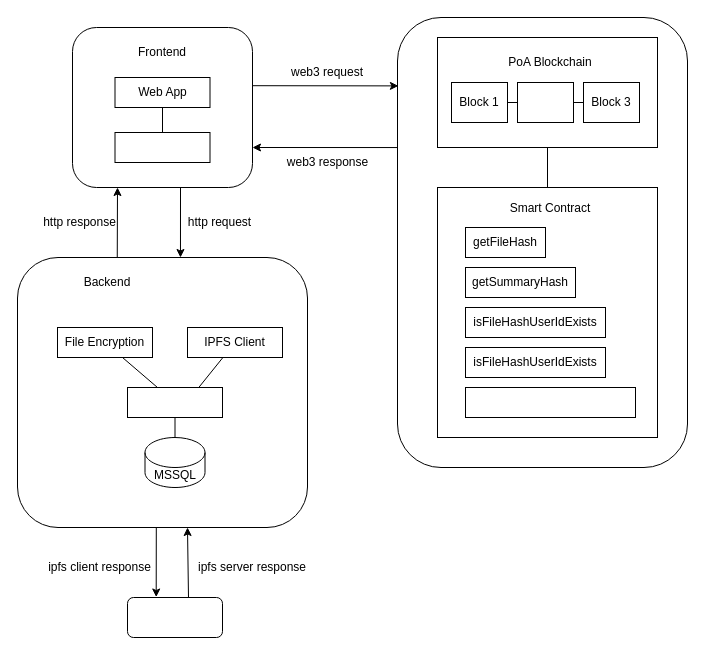
Some shapes in this 705 by 655 pixel diagram are drawn without their labels. The centre of each missing label's shape, as x and y in pixels:
Block 2: point 545,102
Ethereum Client (web3): point 162,147
IPFS: point 174,617
isSummaryHashUserIdExists: point 550,402
Web API: point 174,402
